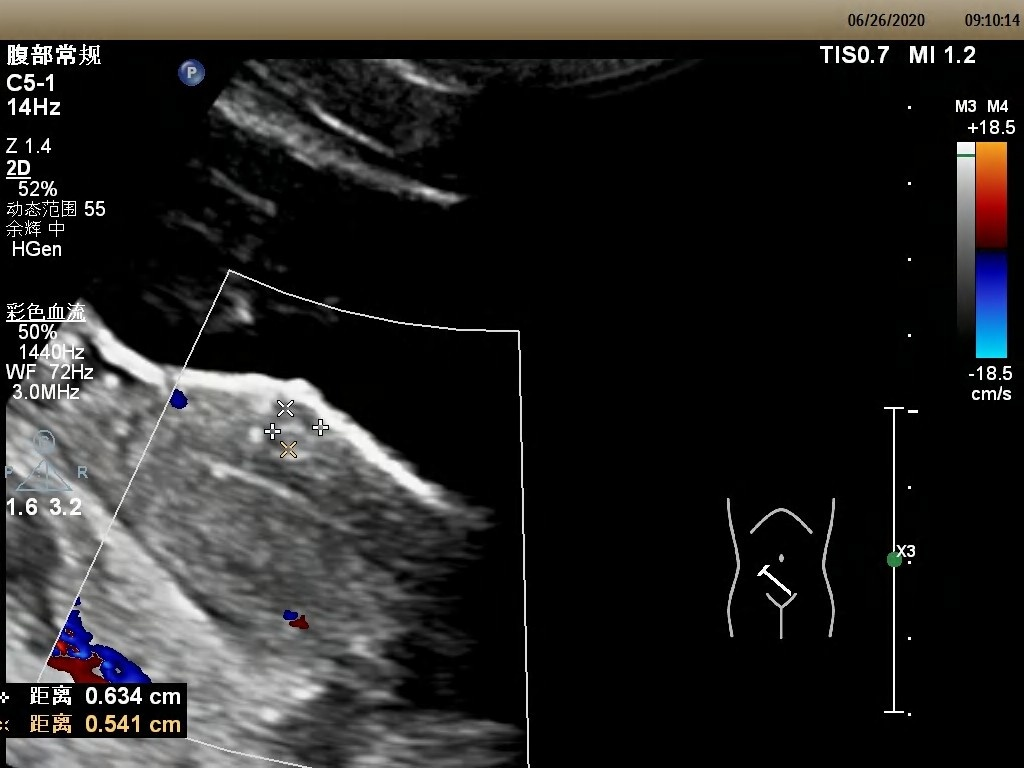肌瘤: (273, 408, 319, 448)
